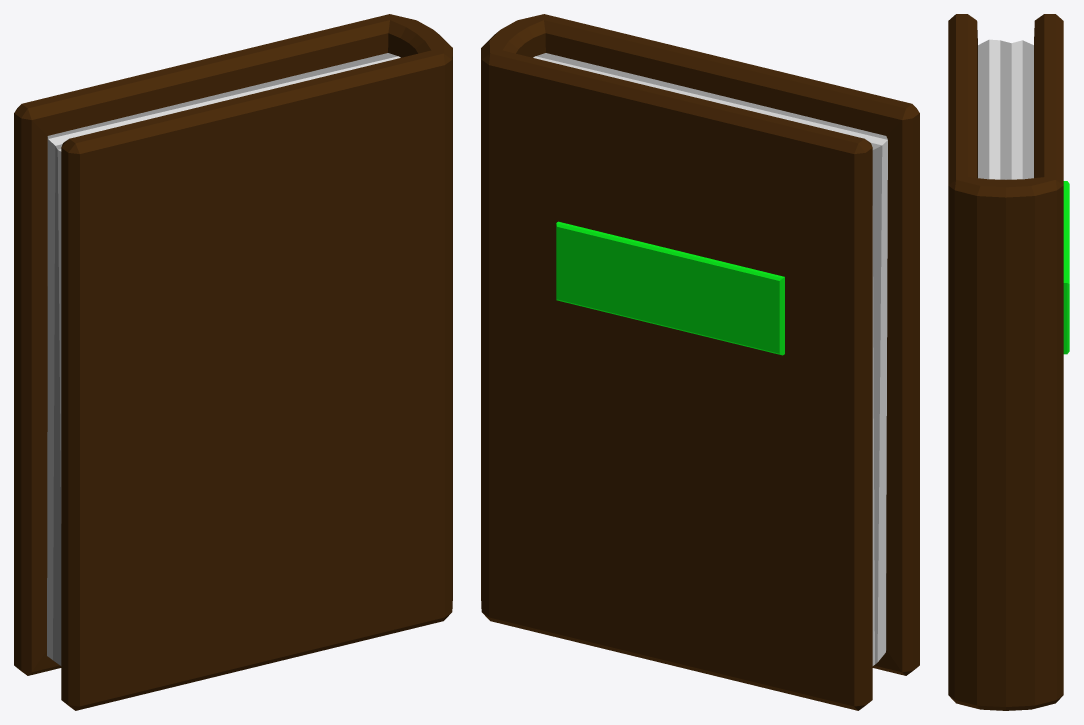
Rendered from Book.fbx.
3 renders of one model, left to right at view 1: azimuth 30°, elevation 25°; view 2: azimuth 150°, elevation 25°; view 3: azimuth 270°, elevation 25°, orthographic. The views are drawn at different scales.
Visible parts, largest first — view 1: Book; view 2: Book; view 3: Book.
Boxes of the visible parts, bbox=[...] form: Book: bbox=[14, 14, 452, 710]; Book: bbox=[481, 14, 919, 710]; Book: bbox=[948, 14, 1069, 710].
Bounding box in the file's own units: 66.71 × 90.6 × 19.07.
